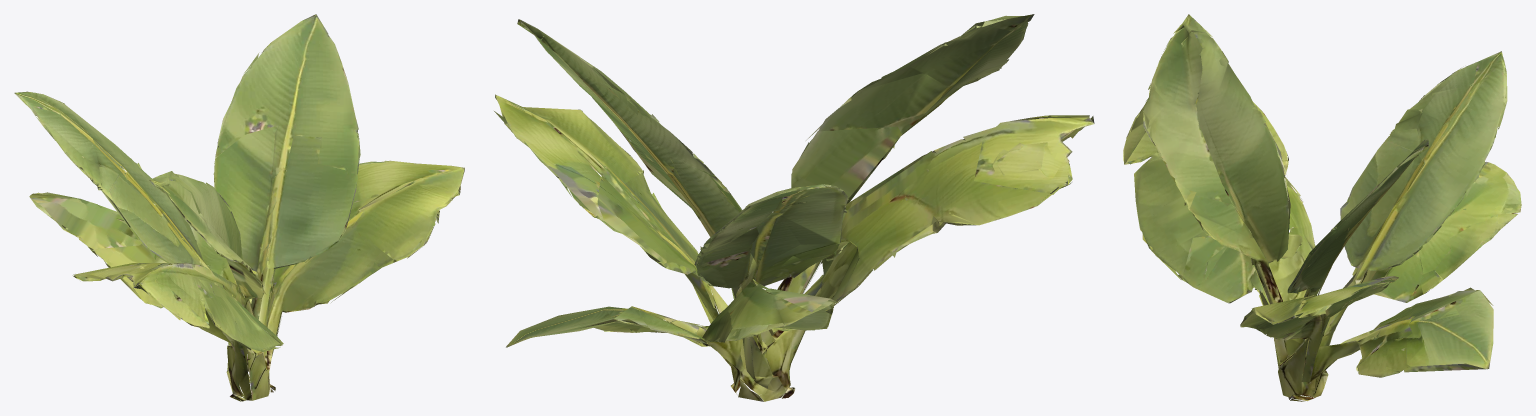
File: turtle-prop-banana-top.glb
The picture shows the model from 3 angles, left to right: view 1: azimuth 30°, elevation 25°; view 2: azimuth 150°, elevation 25°; view 3: azimuth 270°, elevation 25°; orthographic projection. The views are drawn at different scales.
Parts seen in each view (by area): view 1: Mesh_0; view 2: Mesh_0; view 3: Mesh_0.
Part boxes in pixels (x1,y1,x2,y2): Mesh_0: (14, 14, 464, 401); Mesh_0: (494, 14, 1094, 401); Mesh_0: (1123, 14, 1521, 401).
Size of the model in its own units: 0.1 by 0.0691 by 0.0799.
Materials: 1 (1 with a texture image).
